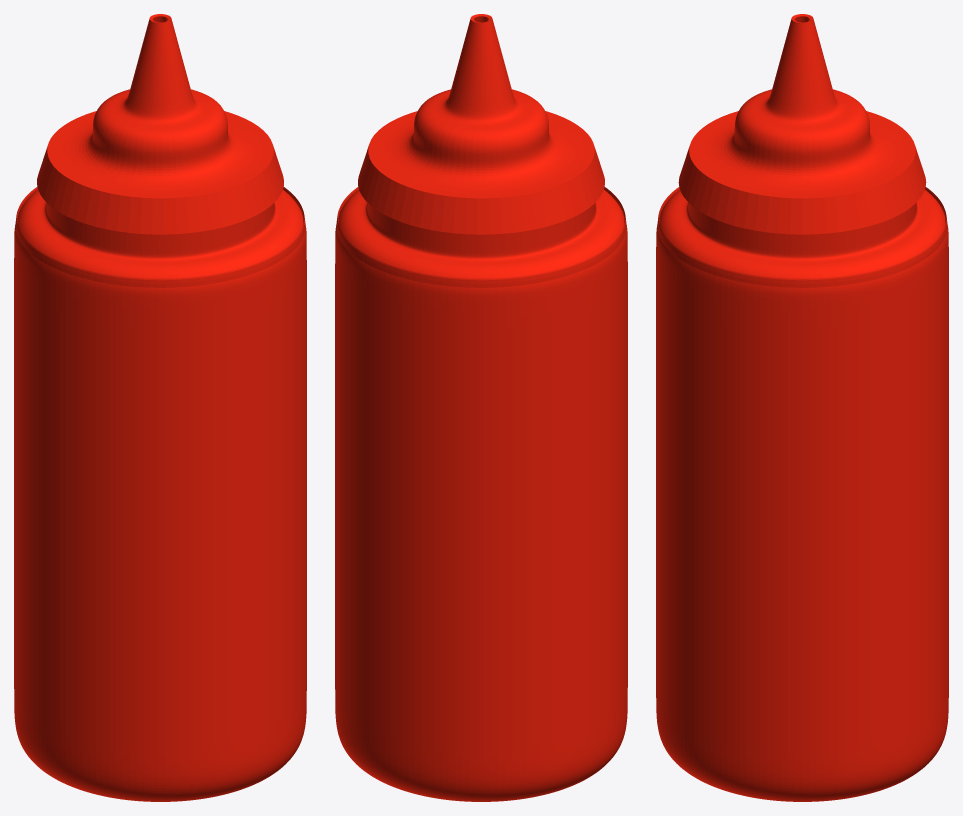
File: TomatoSauce.fbx
3 views of the same model, side by side, from view 1: azimuth 30°, elevation 25°; view 2: azimuth 150°, elevation 25°; view 3: azimuth 270°, elevation 25° (orthographic).
Parts seen in each view (by area): view 1: TomatoSauce, TomatoSauce.001; view 2: TomatoSauce, TomatoSauce.001; view 3: TomatoSauce, TomatoSauce.001.
Boxes of the visible parts, bbox=[...] form: TomatoSauce: bbox=[14, 186, 306, 801]; TomatoSauce.001: bbox=[37, 14, 283, 234]; TomatoSauce: bbox=[335, 187, 627, 801]; TomatoSauce.001: bbox=[358, 14, 604, 234]; TomatoSauce: bbox=[656, 187, 948, 801]; TomatoSauce.001: bbox=[678, 14, 926, 234].
Size of the model in its own units: 173 by 480 by 173.
